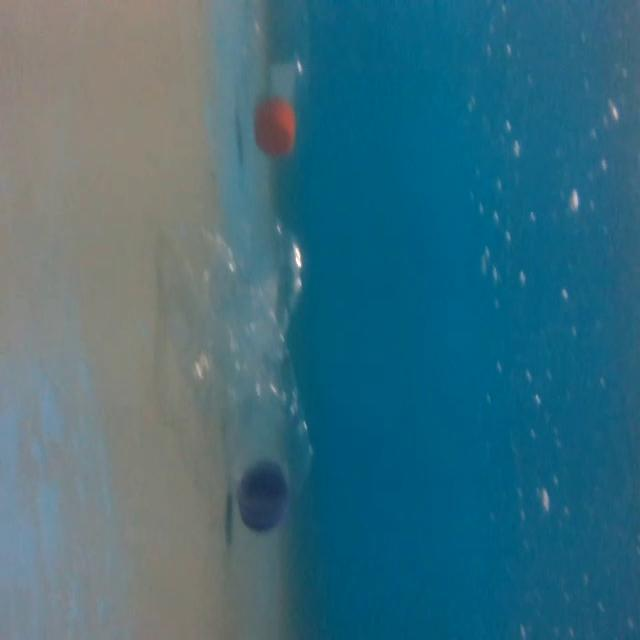plastic bottle: (169, 202, 335, 540), (235, 0, 322, 152)
